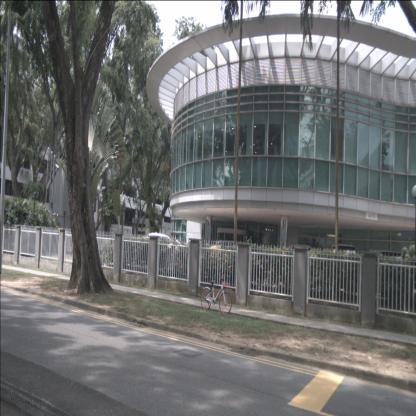vehicle-bicycle: (201, 272, 232, 316)
